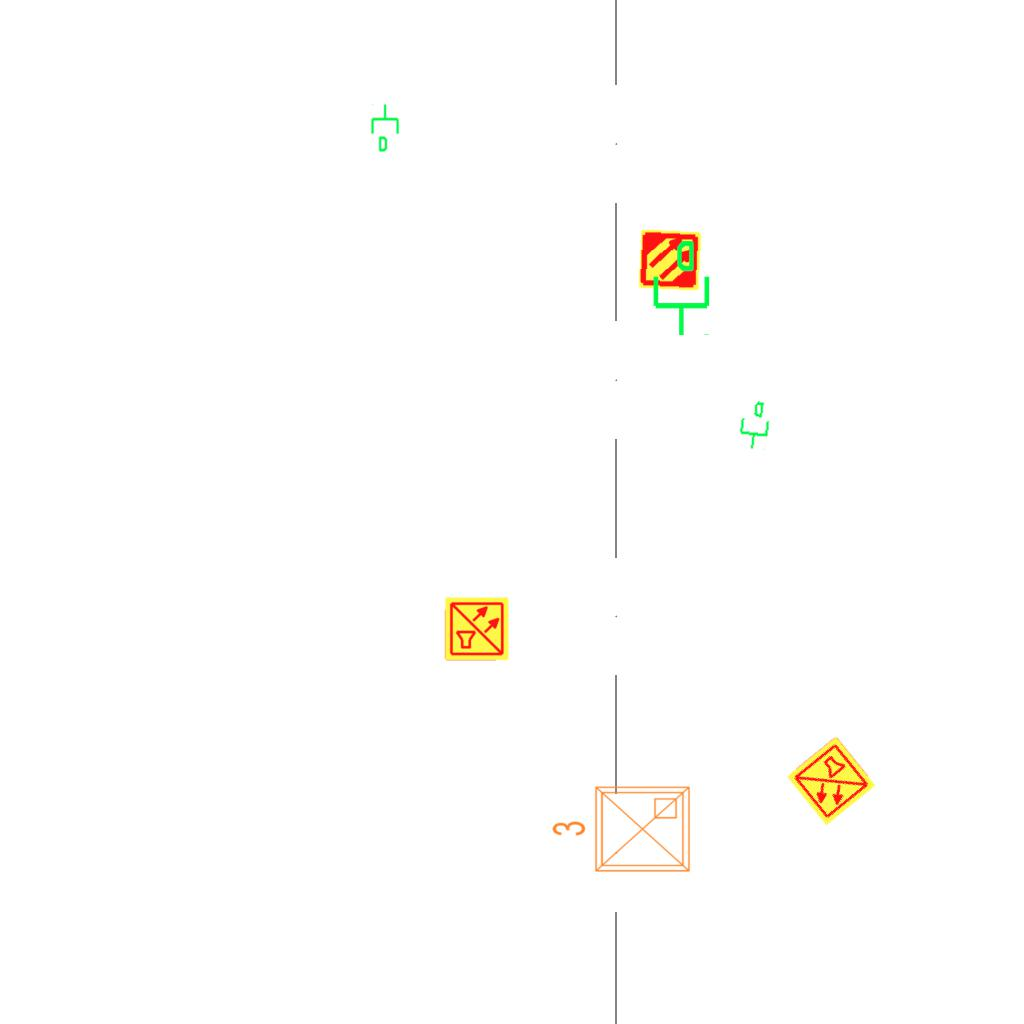ASR_Ansaugrauchmelder: (637, 227, 703, 293)
Datenanschluss_einfach: (645, 238, 714, 338), (734, 398, 774, 452), (369, 103, 403, 153)
Einbaudownlights_LED_Konferenzraeume: (547, 779, 697, 883)
OKW_Multisensormelder_(Kombination_optischer_Rauch-Kahlenmonoxid_Waerme-Melder): (784, 734, 878, 828), (444, 596, 510, 662)
